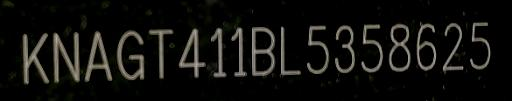letter: (46, 30, 82, 85), (113, 29, 147, 82), (82, 30, 114, 85), (18, 31, 50, 86), (175, 27, 207, 80), (145, 28, 175, 83), (466, 21, 496, 74), (303, 24, 333, 77), (275, 24, 303, 79), (248, 24, 276, 79), (385, 21, 413, 74), (412, 21, 440, 72), (357, 23, 385, 74), (330, 24, 358, 75), (440, 21, 466, 74), (206, 26, 228, 81), (227, 26, 249, 79)
